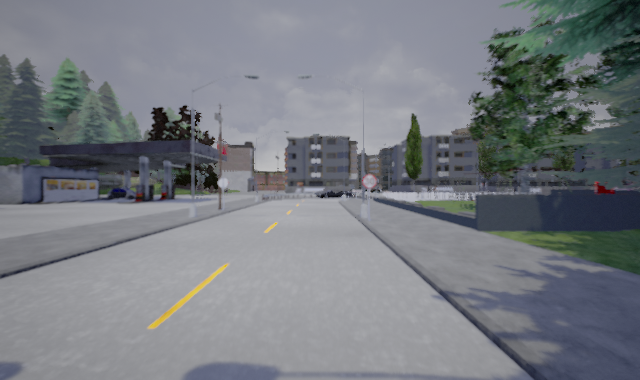vehicle: (315, 186, 354, 199)
